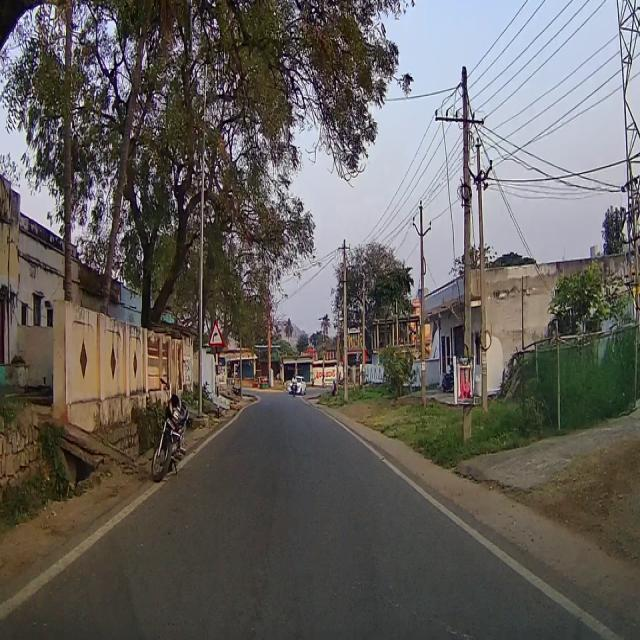right-hand-curve: (210, 318, 223, 350)
